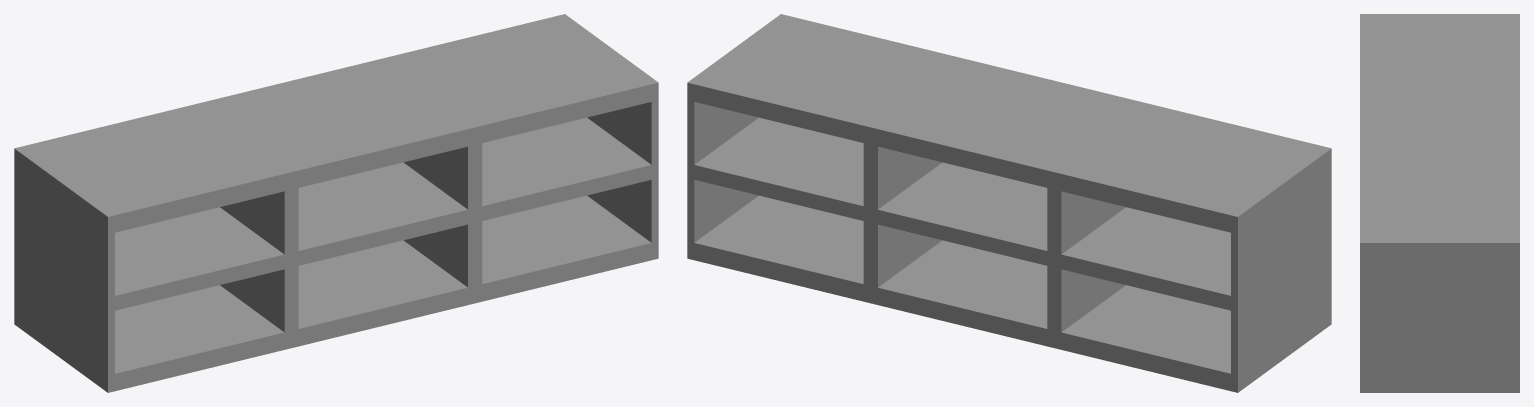
Rendered from MuebleRep1.fbx.
The picture shows the model from 3 angles, left to right: view 1: azimuth 30°, elevation 25°; view 2: azimuth 150°, elevation 25°; view 3: azimuth 270°, elevation 25°; orthographic projection. The views are drawn at different scales.
Visible parts, largest first — view 1: Cube.008; view 2: Cube.008; view 3: Cube.008.
Boxes of the visible parts, x1,y1,x2,y2 form: Cube.008: [14, 14, 658, 392]; Cube.008: [687, 14, 1331, 392]; Cube.008: [1360, 14, 1519, 392].
Bounding box in the file's own units: 216 × 65.98 × 63.74.
1 material, 1 textured.
